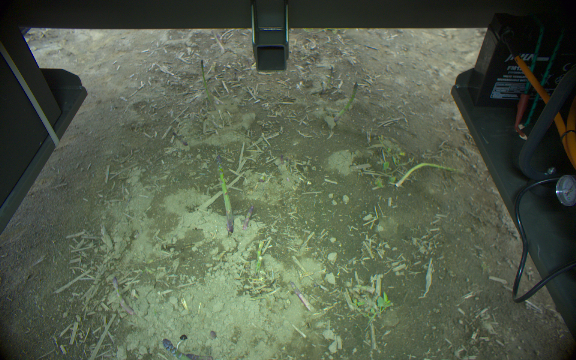aspa: (214, 153, 234, 235), (397, 162, 462, 187), (160, 336, 213, 360), (333, 81, 360, 124), (109, 276, 135, 316), (288, 280, 312, 313), (199, 57, 213, 105), (240, 204, 255, 230), (327, 63, 335, 92)
